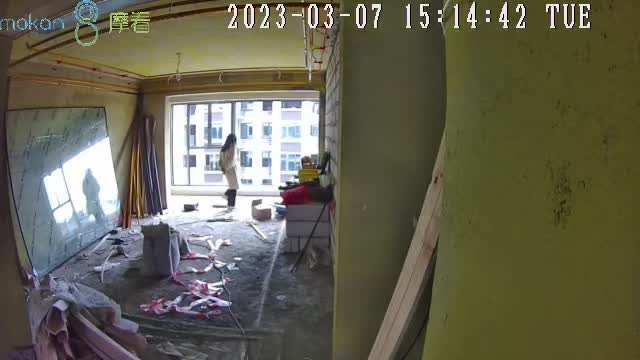people: (218, 134, 238, 210)
window: (167, 97, 319, 191)
